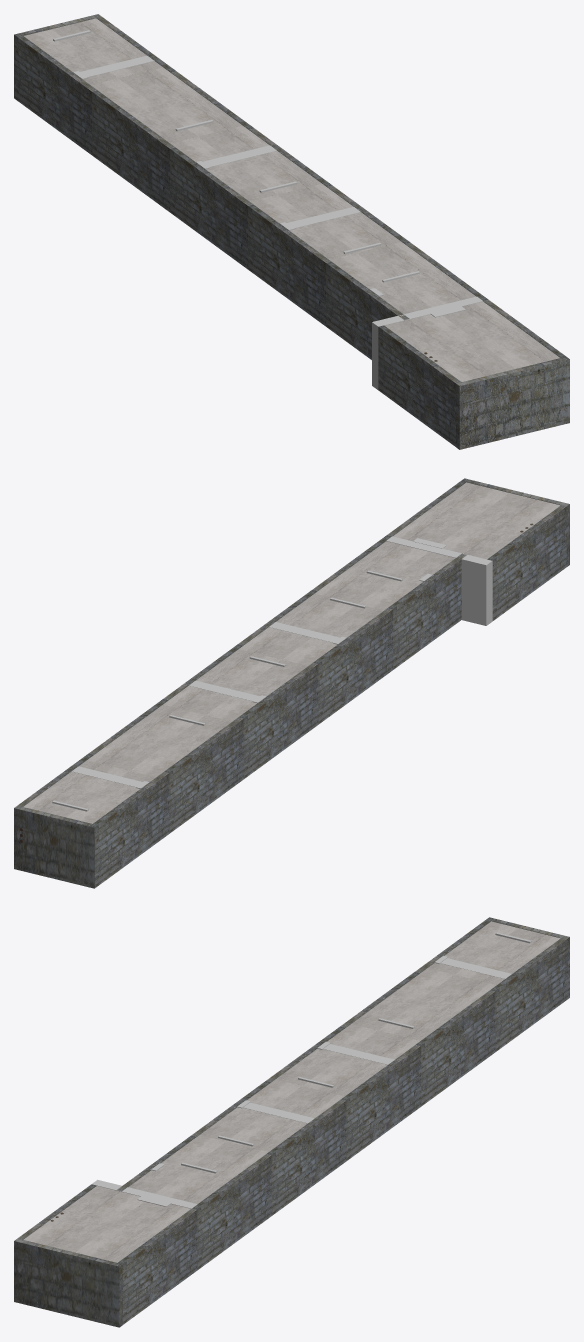
File: Corridor.fbx
3 renders of one model, top to bottom at view 1: azimuth 30°, elevation 25°; view 2: azimuth 150°, elevation 25°; view 3: azimuth 330°, elevation 25°, orthographic. The views are drawn at different scales.
Parts seen in each view (by area): view 1: Cube.064, Cube.002, Cube.063, Cube.070, Cube.072, Cube.071, Cube.073, Plane.034, Plane.003, Plane.033, Plane.022, Plane.025 (+15 smaller); view 2: Cube.050, Cube.063, Cube.071, Cube.002, Cube.070, Cube.072, Cube.073, Cube.003, Plane.034, Plane.003, Plane.033, Plane.022 (+17 smaller); view 3: Cube.064, Cube.001, Cube.066, Cube.067, Cube.065, Cube.069, Cube.068, Plane.034, Plane.003, Plane.033, Plane.022, Plane.025 (+14 smaller).
Boxes of the visible parts, x1,y1,x2,y2 form: Cube.064: [456, 357, 569, 449]; Cube.002: [378, 325, 461, 446]; Cube.063: [14, 33, 97, 154]; Cube.070: [92, 90, 175, 212]; Cube.072: [248, 204, 331, 326]; Cube.071: [170, 147, 253, 269]; Cube.073: [326, 261, 409, 359]; Plane.034: [119, 71, 227, 136]; Plane.003: [409, 314, 514, 375]; Plane.033: [91, 78, 197, 143]; Plane.022: [443, 305, 544, 368]; Plane.025: [357, 246, 460, 307]; Cube.050: [14, 807, 94, 888]; Cube.063: [89, 772, 169, 888]; Cube.071: [239, 663, 318, 778]; Cube.002: [487, 505, 566, 620]; Cube.070: [164, 717, 243, 833]; Cube.072: [313, 608, 392, 724]; Cube.073: [388, 553, 466, 669]; Cube.003: [455, 553, 492, 625]; Plane.034: [102, 708, 205, 770]; Plane.003: [440, 493, 537, 553]; Plane.033: [130, 715, 232, 777]; Plane.022: [408, 486, 508, 543]; Cube.064: [14, 1239, 122, 1327]; Cube.001: [117, 1208, 197, 1324]; Cube.066: [267, 1099, 346, 1215]; Cube.067: [341, 1045, 420, 1161]; Cube.065: [192, 1154, 271, 1270]; Cube.069: [490, 935, 569, 1051]; Cube.068: [416, 990, 495, 1106]; Plane.034: [378, 975, 481, 1037]; Plane.003: [47, 1191, 143, 1252]; Plane.033: [351, 968, 453, 1030]; Plane.022: [75, 1201, 176, 1259]; Plane.025: [155, 1141, 253, 1200].
Size of the model in its own units: 1051 by 592 by 7768.
